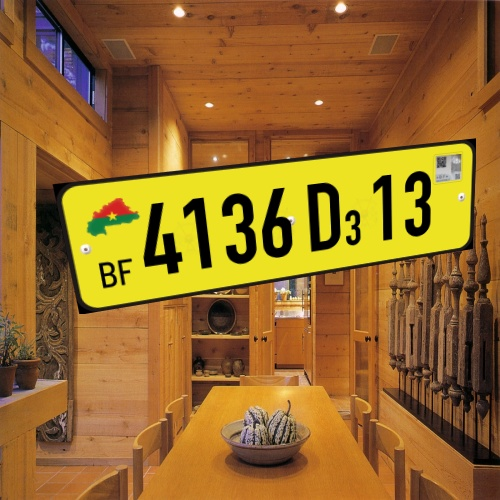plate: (48, 123, 484, 319)
